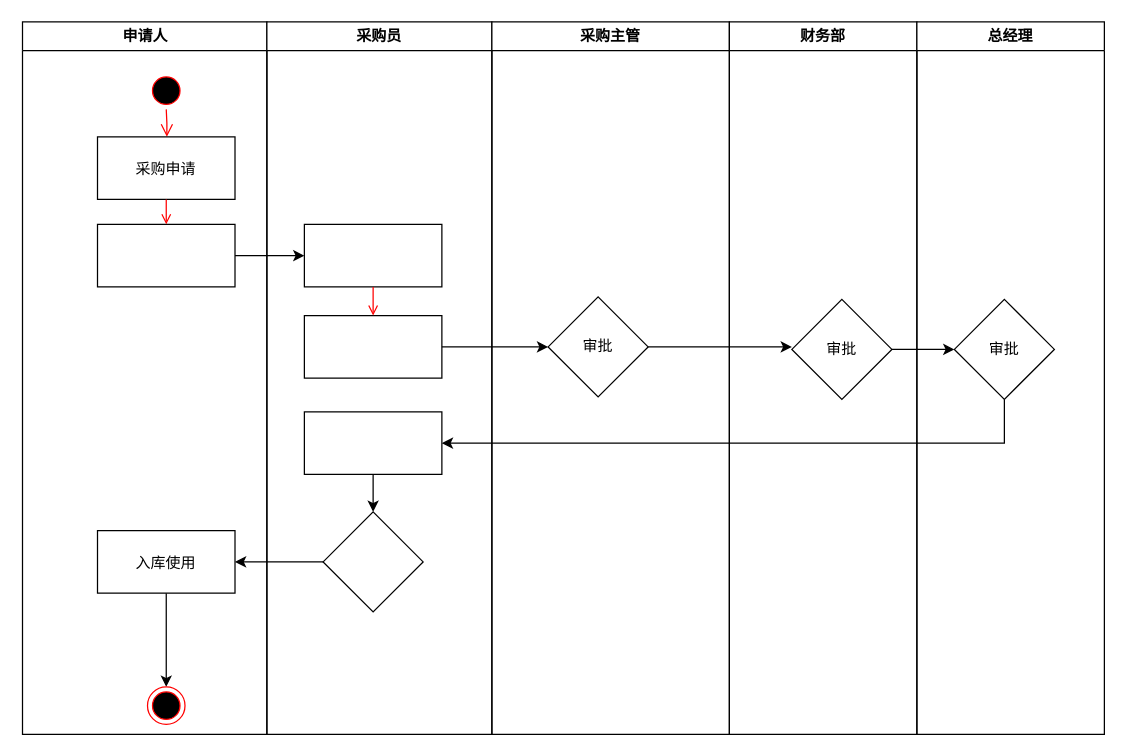
This 1126x756 diagram has some shape labels left out. Here are the shapes that lost their labels. From the top down, the centre of each, then its label:
the point at 165,255: 填写采购单
the point at 372,255: 库存调查
the point at 372,346: 采购预算
the point at 372,442: 执行采购
the point at 372,561: 采购到所需物资
